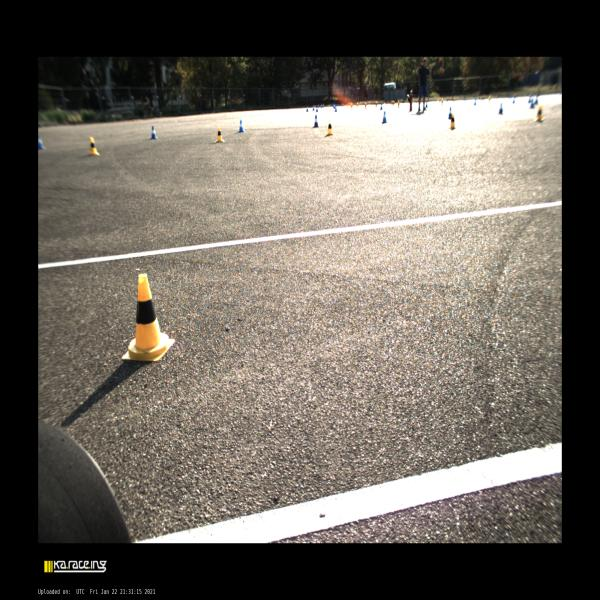blue_cone: (38, 135, 44, 150), (150, 126, 157, 138), (312, 115, 319, 127), (238, 119, 244, 132), (382, 111, 387, 123), (529, 98, 535, 108), (498, 103, 503, 114), (448, 106, 451, 119), (534, 95, 538, 104), (528, 94, 531, 104), (334, 105, 338, 112), (380, 102, 383, 110), (425, 100, 428, 108), (512, 96, 515, 103), (306, 106, 309, 112), (474, 98, 476, 106), (312, 105, 314, 111), (316, 106, 318, 112), (322, 104, 325, 108), (321, 103, 322, 109), (334, 103, 335, 109), (318, 104, 319, 108)
yellow_cone: (121, 274, 175, 362), (89, 136, 99, 154), (215, 126, 224, 142), (534, 106, 543, 122), (449, 115, 456, 129), (327, 121, 333, 135), (398, 100, 400, 108), (442, 98, 444, 106), (364, 102, 366, 109), (351, 103, 353, 109), (356, 102, 358, 108), (360, 101, 362, 107), (375, 101, 377, 107), (393, 100, 395, 106), (368, 101, 370, 106)
